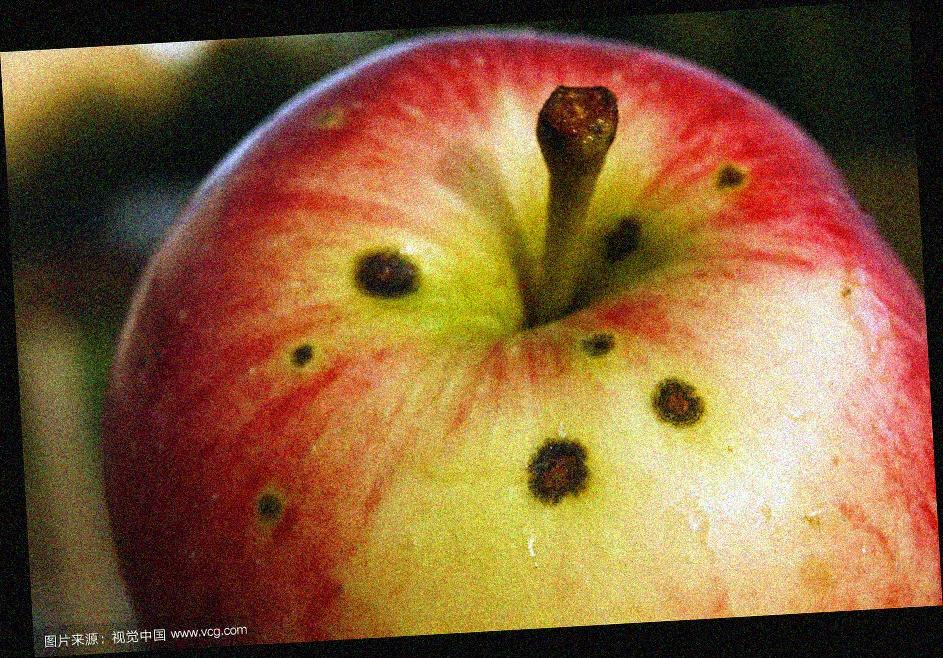rotten apple: (96, 24, 926, 629)
